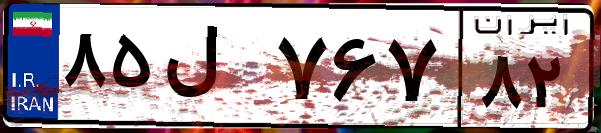2: (525, 38, 570, 115)
5: (110, 28, 158, 98)
6: (330, 28, 385, 110)
7: (270, 28, 330, 110), (385, 28, 445, 110)
8: (57, 26, 110, 100), (475, 38, 525, 113)
ل: (158, 20, 270, 120)
